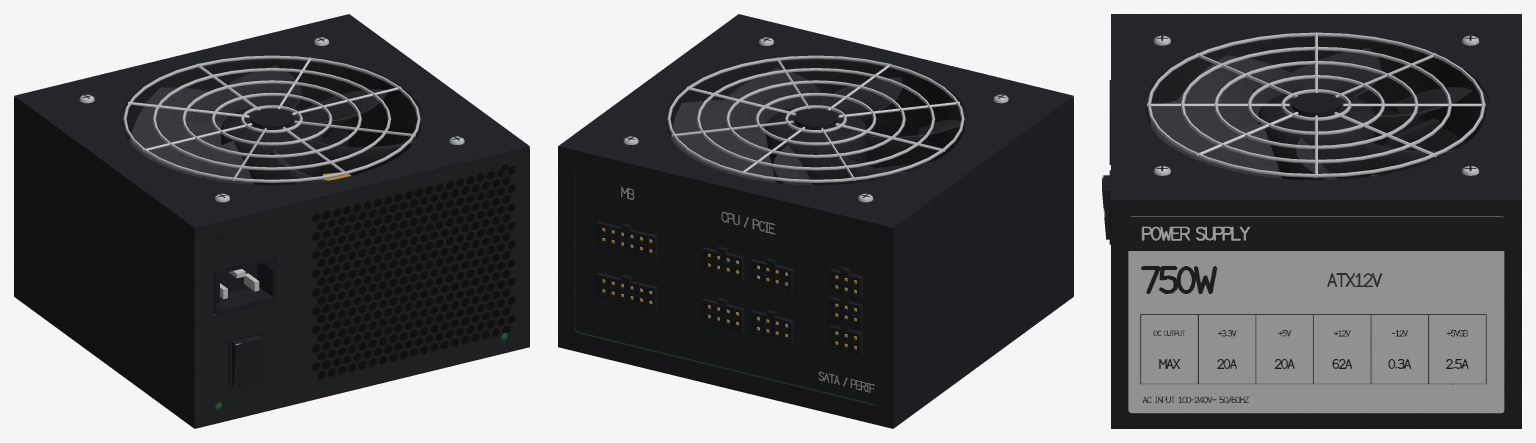
The model's file is psu.glb.
3 views of the same model, side by side, from view 1: azimuth 30°, elevation 25°; view 2: azimuth 150°, elevation 25°; view 3: azimuth 270°, elevation 25° (orthographic). The views are drawn at different scales.
Visible parts, largest first — view 1: Steel housing, 120 mm fan blades, Fan finger guard, 120 mm fan frame, 120 mm fan hub, AC inlet (IEC C14), Rocker switch, Rocker switch bezel; view 2: Steel housing, Modular connector board, 120 mm fan blades, Fan finger guard, Modular sockets, 120 mm fan frame, 120 mm fan hub, Modular socket pins, Fan screws; view 3: Side label, Steel housing, 120 mm fan blades, Fan finger guard, 120 mm fan frame, 120 mm fan hub, Fan screws, Rocker switch.
Boxes of the visible parts, x1=… form: Steel housing: x1=14, y1=14, x2=529, y2=428; 120 mm fan blades: x1=128, y1=65, x2=416, y2=184; Fan finger guard: x1=123, y1=55, x2=420, y2=182; 120 mm fan frame: x1=120, y1=59, x2=423, y2=255; 120 mm fan hub: x1=221, y1=106, x2=322, y2=185; AC inlet (IEC C14): x1=214, y1=255, x2=277, y2=315; Rocker switch: x1=232, y1=335, x2=263, y2=386; Rocker switch bezel: x1=228, y1=331, x2=263, y2=389; Steel housing: x1=558, y1=14, x2=1073, y2=428; Modular connector board: x1=575, y1=169, x2=877, y2=404; 120 mm fan blades: x1=670, y1=68, x2=960, y2=185; Fan finger guard: x1=667, y1=55, x2=964, y2=182; Modular sockets: x1=595, y1=221, x2=862, y2=357; 120 mm fan frame: x1=664, y1=59, x2=967, y2=171; 120 mm fan hub: x1=765, y1=106, x2=866, y2=185; Modular socket pins: x1=602, y1=228, x2=856, y2=349; Fan screws: x1=623, y1=37, x2=1008, y2=202; Side label: x1=1128, y1=216, x2=1504, y2=413; Steel housing: x1=1111, y1=14, x2=1521, y2=428; 120 mm fan blades: x1=1150, y1=47, x2=1472, y2=179; Fan finger guard: x1=1147, y1=32, x2=1485, y2=177; 120 mm fan frame: x1=1143, y1=36, x2=1489, y2=147; 120 mm fan hub: x1=1258, y1=90, x2=1374, y2=180; Fan screws: x1=1153, y1=35, x2=1479, y2=175; Rocker switch: x1=1102, y1=175, x2=1109, y2=239.
Bounding box in the file's own units: 0.1501 × 0.0875 × 0.143.
20 materials, 19 textured.
